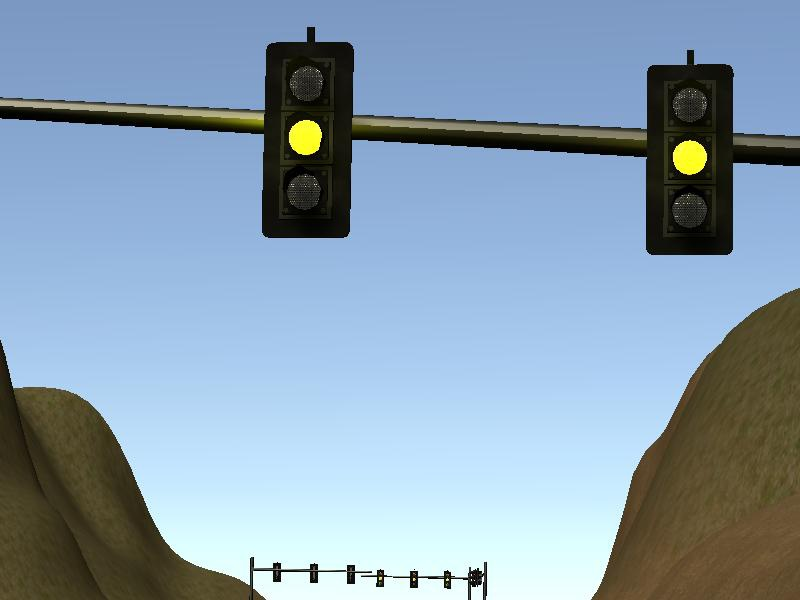Yellow: (259, 42, 352, 239), (643, 63, 733, 256)
